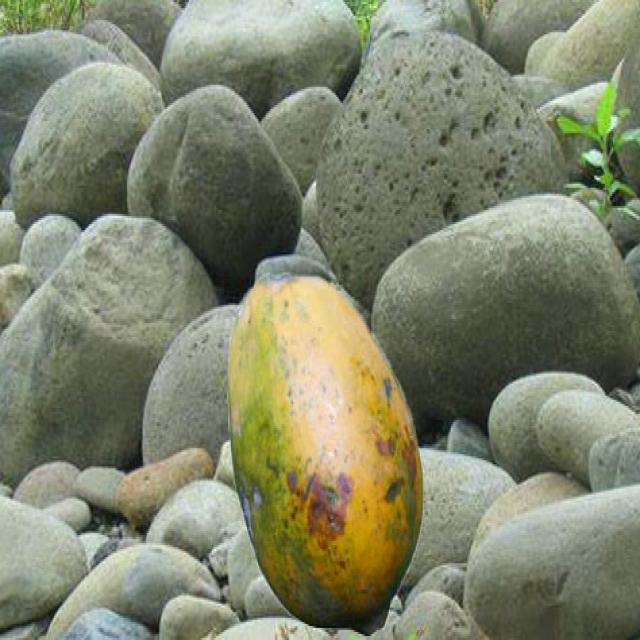Pepaya rippen: (227, 277, 418, 636)
